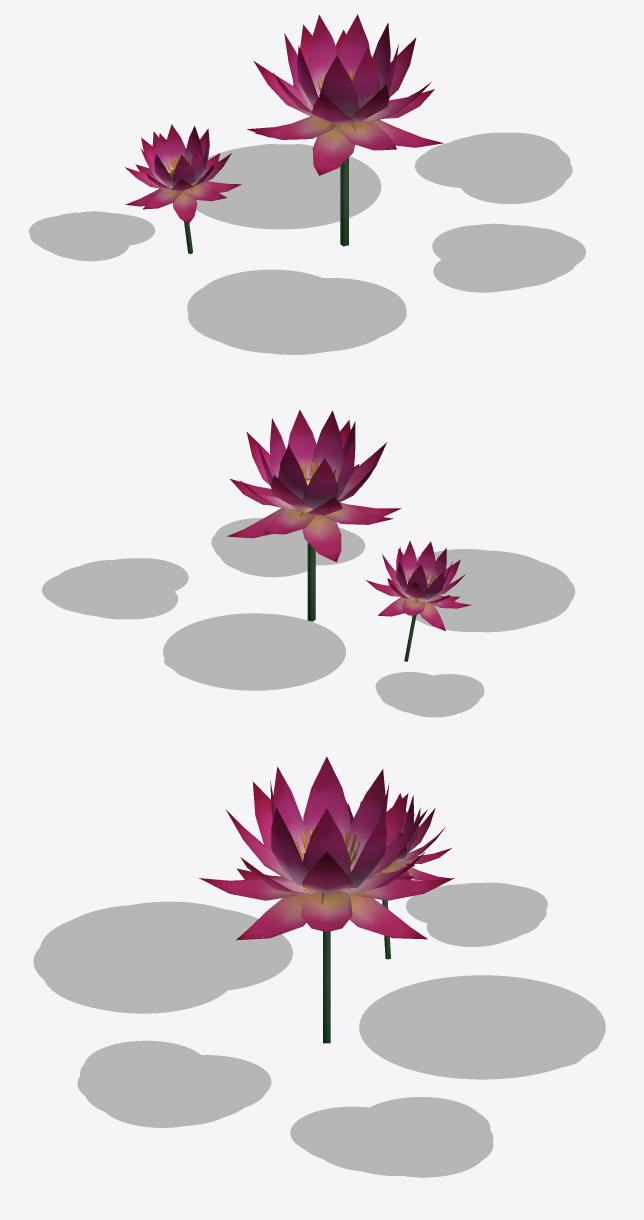
The model's file is lotus1.fbx.
3 views of the same model, one above another, from view 1: azimuth 30°, elevation 25°; view 2: azimuth 150°, elevation 25°; view 3: azimuth 270°, elevation 25° (orthographic). The views are drawn at different scales.
Parts seen in each view (by area): view 1: lotus1; view 2: lotus1; view 3: lotus1.
Part boxes in pixels (box(x1,y1,x2,y2)): lotus1: box(29, 14, 585, 354); lotus1: box(42, 409, 575, 717); lotus1: box(33, 756, 605, 1177).
Bounding box in the file's own units: 1.21 × 0.4343 × 0.9245.
